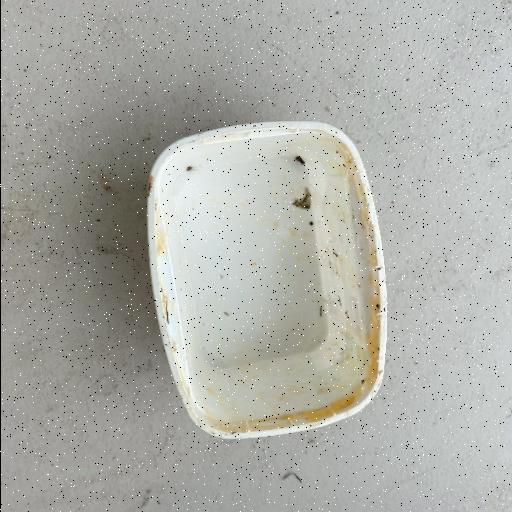Plastic: (143, 118, 390, 440)
